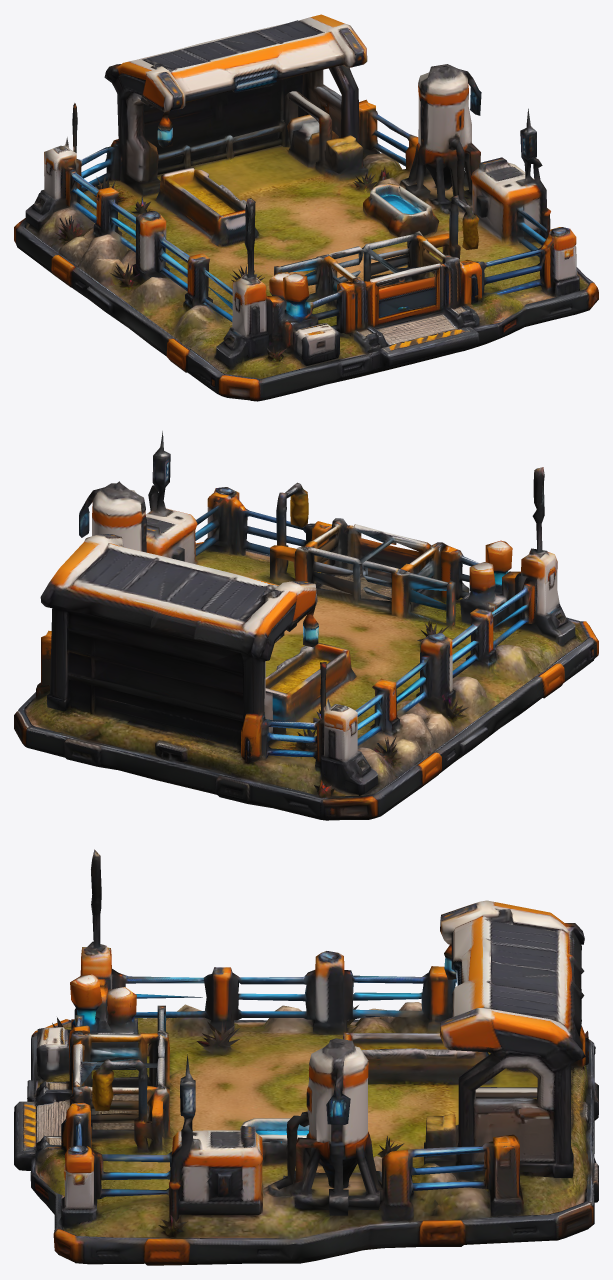
Rendered from building-ranch-l1.glb.
3 renders of one model, top to bottom at view 1: azimuth 30°, elevation 25°; view 2: azimuth 150°, elevation 25°; view 3: azimuth 270°, elevation 25°, orthographic. The views are drawn at different scales.
Parts seen in each view (by area): view 1: tripo_node_9d6ccdce-e47b-404d-b900-fe41d86536ee; view 2: tripo_node_9d6ccdce-e47b-404d-b900-fe41d86536ee; view 3: tripo_node_9d6ccdce-e47b-404d-b900-fe41d86536ee.
Part boxes in pixels (x1,y1,x2,y2): tripo_node_9d6ccdce-e47b-404d-b900-fe41d86536ee: (14, 14, 598, 401); tripo_node_9d6ccdce-e47b-404d-b900-fe41d86536ee: (14, 431, 598, 820); tripo_node_9d6ccdce-e47b-404d-b900-fe41d86536ee: (14, 849, 598, 1265).
Bounding box in the file's own units: 0.9038 × 0.3993 × 0.979.
1 material, 1 textured.
